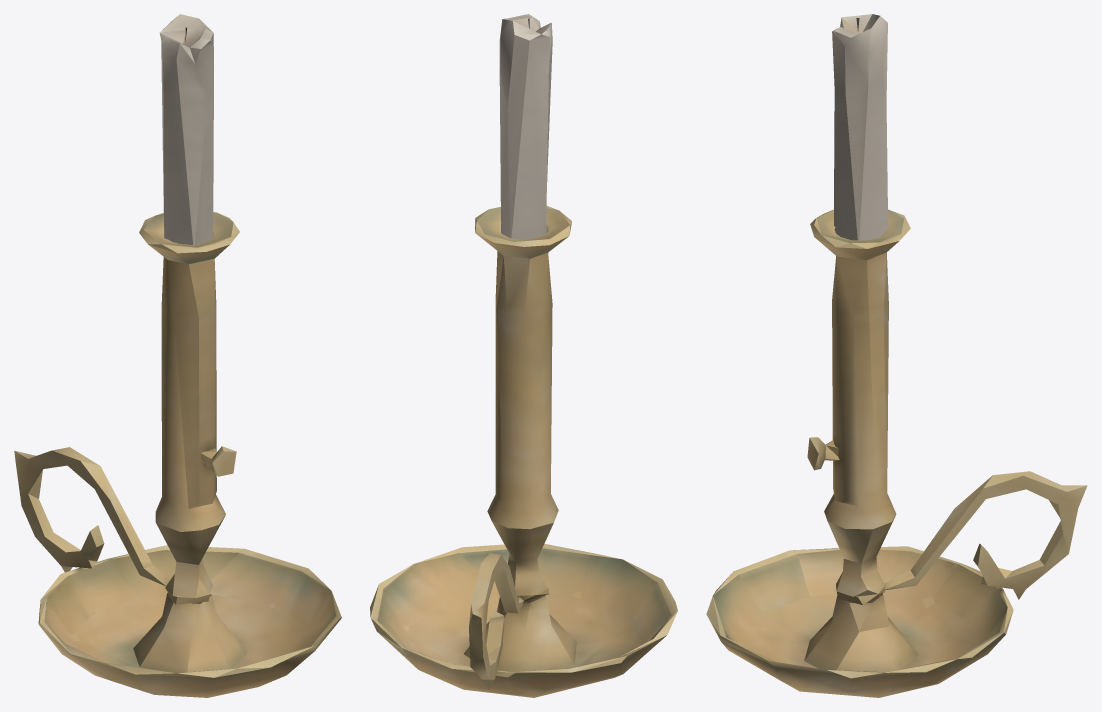
File: candlestick-brass-f.lod1.glb
The picture shows the model from 3 angles, left to right: view 1: azimuth 30°, elevation 25°; view 2: azimuth 150°, elevation 25°; view 3: azimuth 270°, elevation 25°; orthographic projection.
Parts seen in each view (by area): view 1: candlestick-brass-f; view 2: candlestick-brass-f; view 3: candlestick-brass-f.
Boxes of the visible parts, x1,y1,x2,y2 form: candlestick-brass-f: [14, 14, 341, 697]; candlestick-brass-f: [370, 14, 677, 697]; candlestick-brass-f: [706, 14, 1087, 697].
Size of the model in its own units: 0.1232 by 0.2876 by 0.1535.
Materials: 1 (1 with a texture image).
